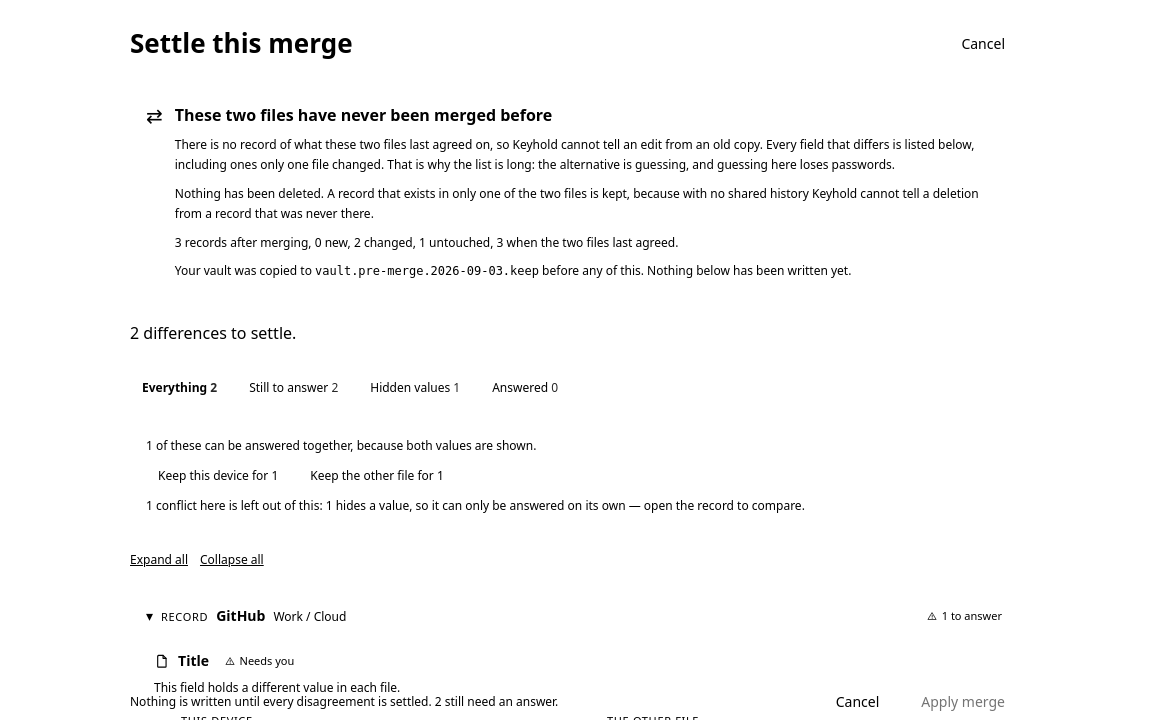
Test: the bulk line, on screen › offers a sweep only for the conflicts whose values are shown
The width and height of the screenshot is (1152, 720).
Click the button "Keep this device for 1": click(218, 476) [146,463,290,489]
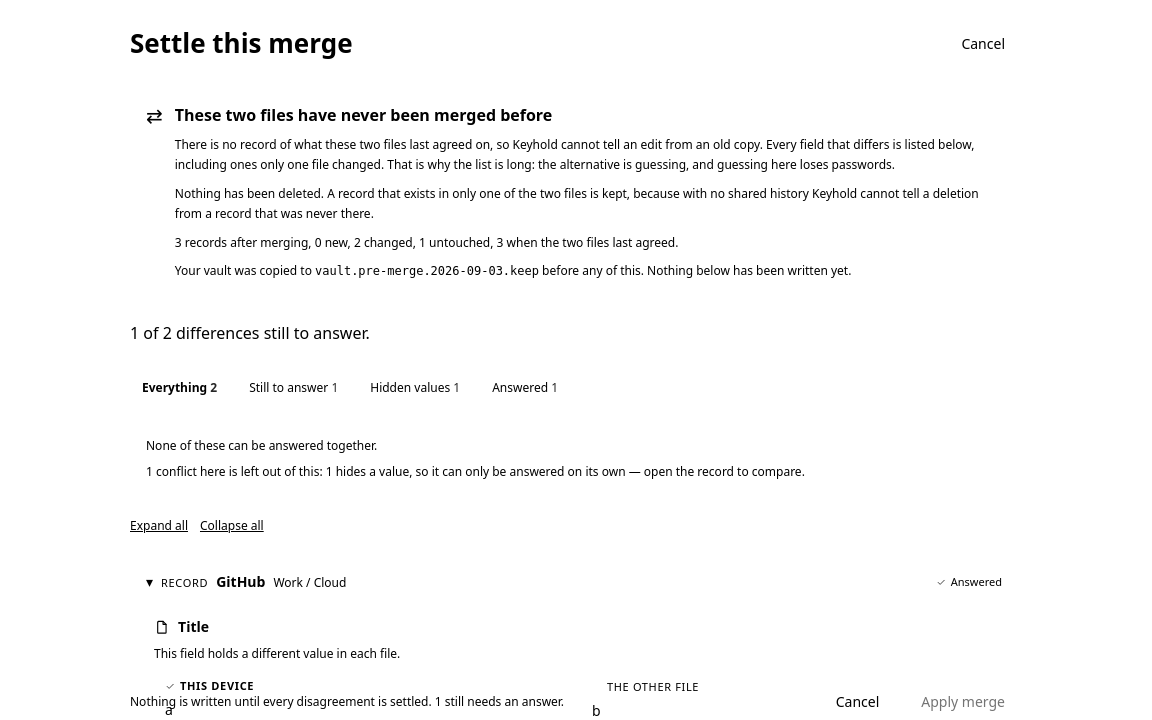
Expected: the text "1 of 2 differences still to answer." is shown, [130,322,370,344]
